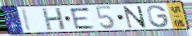5: (94, 5, 116, 31)
E: (68, 7, 96, 31)
G: (146, 4, 169, 28)
H: (42, 7, 67, 32)
I: (22, 8, 33, 33)
N: (122, 5, 148, 30)
